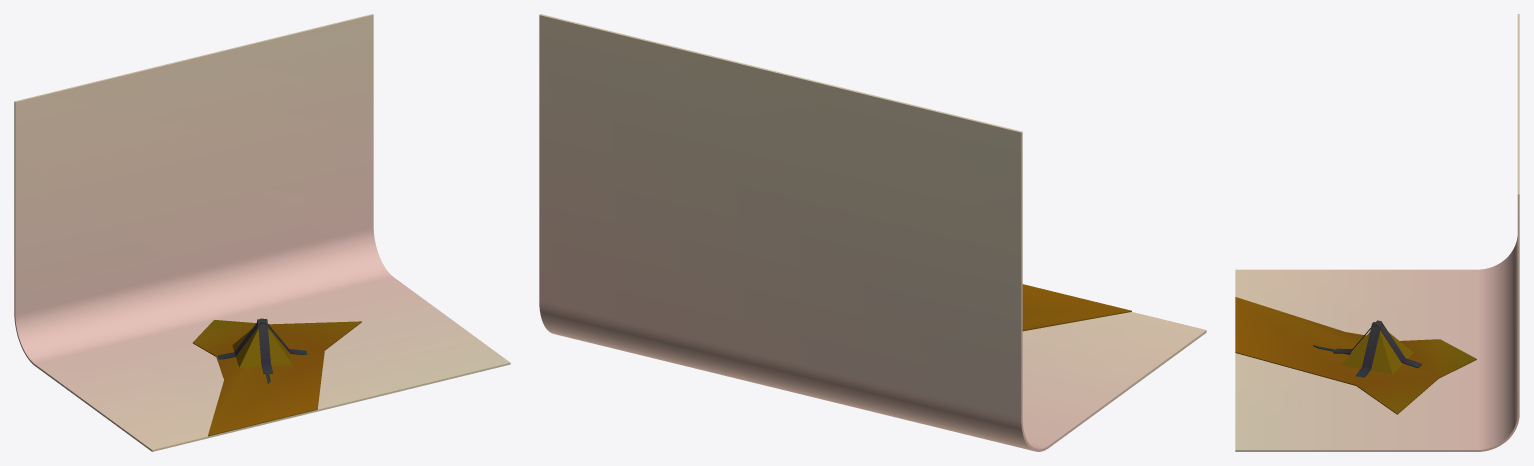
3 views of the same model, side by side, from view 1: azimuth 30°, elevation 25°; view 2: azimuth 150°, elevation 25°; view 3: azimuth 270°, elevation 25° (orthographic). The views are drawn at different scales.
Visible parts, largest first — view 1: continuous_sheet, flared_cloth, pinched_fold, binding.001; view 2: continuous_sheet, flared_cloth; view 3: continuous_sheet, flared_cloth, pinched_fold, binding, binding.001.
Part boxes in pixels (x1=…): continuous_sheet: x1=14, y1=14, x2=510, y2=451; flared_cloth: x1=192, y1=320, x2=361, y2=436; pinched_fold: x1=232, y1=327, x2=292, y2=367; binding.001: x1=257, y1=319, x2=272, y2=373; continuous_sheet: x1=539, y1=14, x2=1206, y2=451; flared_cloth: x1=1022, y1=284, x2=1131, y2=331; continuous_sheet: x1=1235, y1=14, x2=1519, y2=451; flared_cloth: x1=1235, y1=297, x2=1476, y2=414; pinched_fold: x1=1341, y1=330, x2=1413, y2=374; binding: x1=1355, y1=322, x2=1383, y2=377; binding.001: x1=1333, y1=320, x2=1421, y2=368.
Bounding box in the file's own units: 0.6 × 0.3994 × 0.4.
